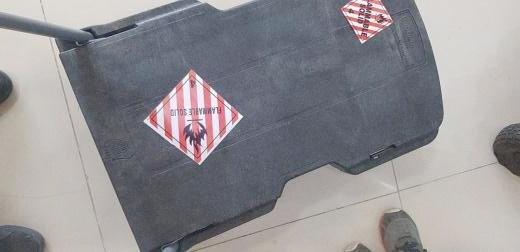flammable-solid: (143, 68, 243, 165), (341, 1, 393, 43)
